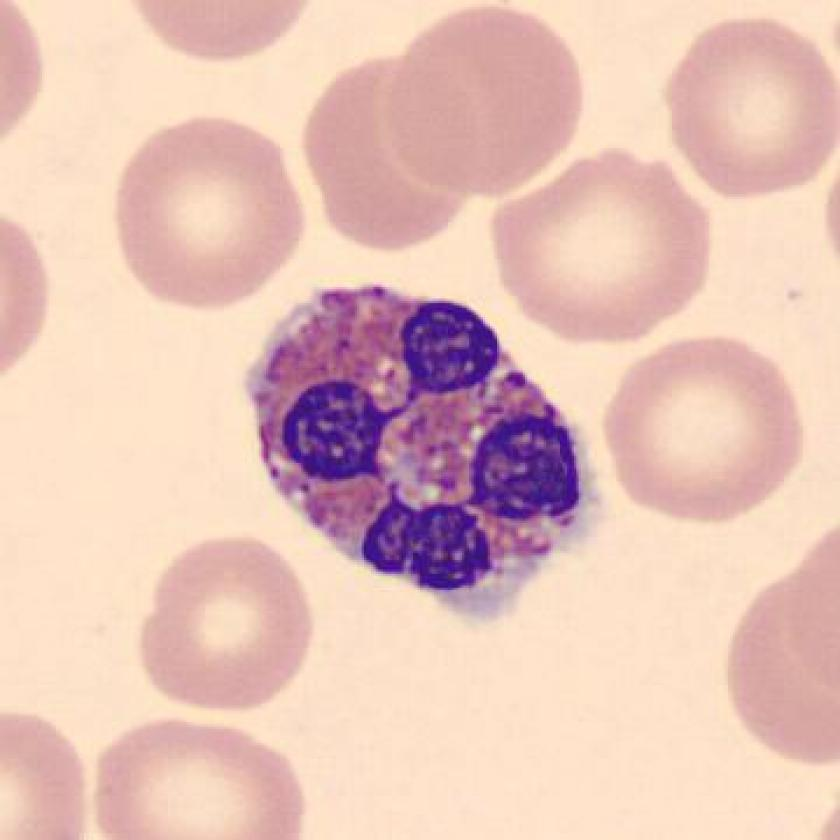eosinophil: (232, 265, 622, 640)
